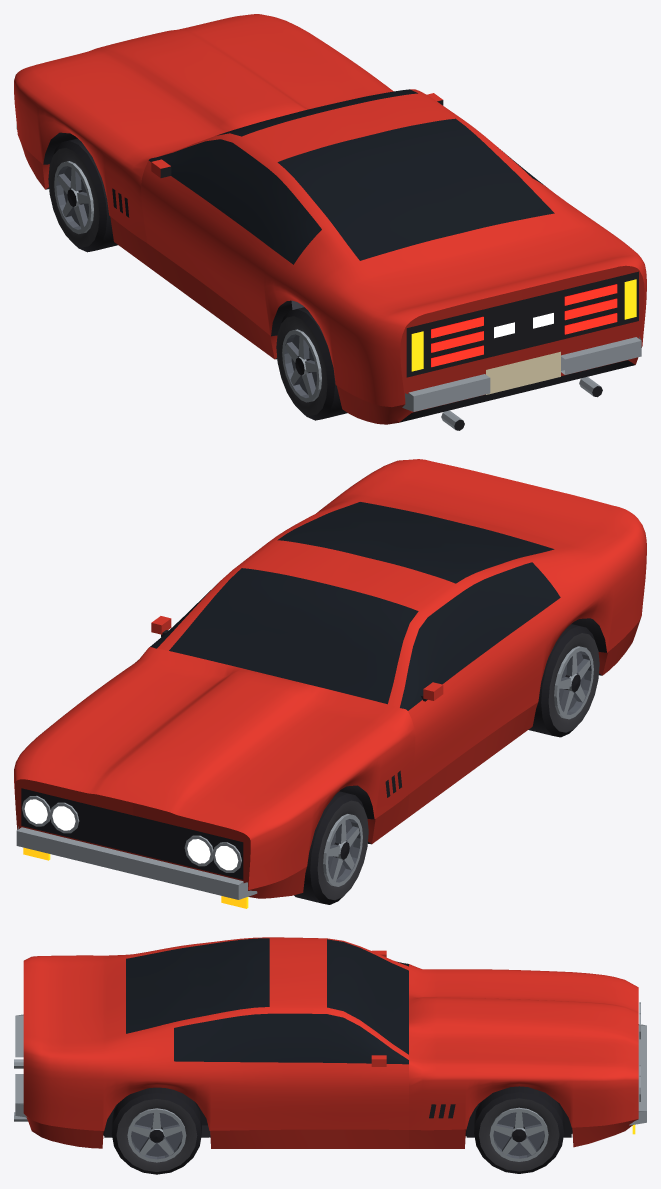
The model's file is falcon_gt.glb.
3 views of the same model, one above another, from view 1: azimuth 30°, elevation 25°; view 2: azimuth 150°, elevation 25°; view 3: azimuth 270°, elevation 25° (orthographic). The views are drawn at different scales.
Parts seen in each view (by area): view 1: Body, Tire_FL, Tire_RL, Rim_FL, Rim_RL, brake_L, brake_R; view 2: Body, Tire_FL, Tire_RL, Rim_FL, Rim_RL, headlight_L, headlight_R; view 3: Body, Tire_FR, Tire_RR, Rim_RR, Rim_FR.
Boxes of the visible parts, x1,y1,x2,y2 form: Body: (14,14,646,430); Tire_FL: (48,138,117,252); Tire_RL: (276,307,347,420); Rim_FL: (54,161,93,234); Rim_RL: (282,329,321,402); brake_L: (431,317,483,367); brake_R: (565,284,617,334); Body: (14,459,646,899); Tire_FL: (294,791,368,904); Tire_RL: (528,624,599,737); Rim_FL: (323,814,362,886); Rim_RL: (554,646,593,719); headlight_L: (187,839,238,870); headlight_R: (24,799,75,830); Body: (14,937,646,1148); Tire_FR: (474,1086,564,1173); Tire_RR: (111,1087,201,1174); Rim_RR: (127,1108,186,1162); Rim_FR: (489,1107,548,1161).
Size of the model in its own units: 1.9 by 1.25 by 4.63.
